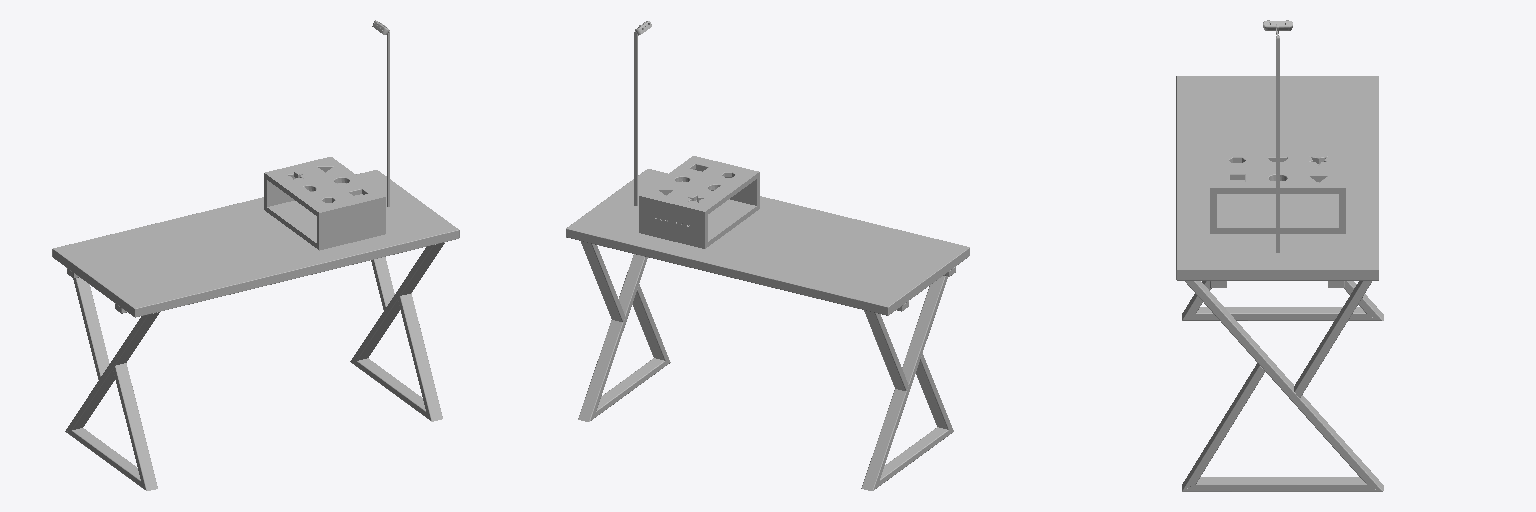
robot.urdf — vla_lab_description:
<?xml version="1.0" ?>
<robot name="vla_lab_description">
  <link name="vla_lab_base_link">
    <inertial>
      <origin xyz="0.044467 0.0014433 0.016429" rpy="0 0 0"/>
      <mass value="37.163"/>
      <inertia ixx="1.0649" ixy="-0.00018813" ixz="0.00023172" iyy="4.6485" iyz="0.012309" izz="5.6105"/>
    </inertial>
    <visual>
      <origin xyz="0 0 0" rpy="0 0 0"/>
      <geometry>
        <mesh filename="package://vla_lab_description/meshes/vla_lab_base_link.STL"/>
      </geometry>
      <material name="">
        <color rgba="0.75294 0.75294 0.75294 1"/>
      </material>
    </visual>
    <collision>
      <origin xyz="0 0 0" rpy="0 0 0"/>
      <geometry>
        <mesh filename="package://vla_lab_description/meshes/vla_lab_base_link.STL"/>
      </geometry>
    </collision>
  </link>
  <link name="d435i_link"/>
  <joint name="d435i_joint" type="fixed">
    <origin xyz="0.52326 0 0.75876" rpy="0 1.0143 -3.1416"/>
    <parent link="vla_lab_base_link"/>
    <child link="d435i_link"/>
  </joint>
  <link name="rgb_camera_optical_frame"/>
  <joint name="rgb_camera_optical_joint" type="fixed">
    <origin xyz="0.012 0.0325 0" rpy="-1.5707963267949 0 -1.5707963267949"/>
    <parent link="d435i_link"/>
    <child link="rgb_camera_optical_frame"/>
  </joint>
  <link name="left_ir_camera_optical_frame"/>
  <joint name="left_ir_camera_optical_joint" type="fixed">
    <origin xyz="0.012 0.0175 0" rpy="-1.5707963267949 0 -1.5707963267949"/>
    <parent link="d435i_link"/>
    <child link="left_ir_camera_optical_frame"/>
  </joint>
  <link name="right_ir_camera_optical_frame"/>
  <joint name="right_ir_camera_optical_joint" type="fixed">
    <origin xyz="0.012 -0.0325 0" rpy="-1.5707963267949 0 -1.5707963267949"/>
    <parent link="d435i_link"/>
    <child link="right_ir_camera_optical_frame"/>
  </joint>
  <link name="depth_camera_optical_frame"/>
  <joint name="depth_camera_optical_joint" type="fixed">
    <origin xyz="0.012 0.0175 0" rpy="-1.5707963267949 0 -1.5707963267949"/>
    <parent link="d435i_link"/>
    <child link="depth_camera_optical_frame"/>
  </joint>

  <!-- Gazebo RGB-D camera sensor.
       Attached to d435i_link because Gazebo camera forward is easier to align from the camera body frame.
       The ROS optical TF frames still exist separately for perception. -->
  <gazebo reference="d435i_link">
    <sensor name="vla_lab_d435i_rgbd_sensor" type="rgbd_camera">
      <pose>0.012 0.0175 0 0 0 0</pose>
      <always_on>true</always_on>
      <update_rate>30</update_rate>
      <topic>/vla_lab/d435i</topic>
      <camera>
        <horizontal_fov>1.211</horizontal_fov>
        <image>
          <width>640</width>
          <height>480</height>
          <format>R8G8B8</format>
        </image>
        <clip>
          <near>0.05</near>
          <far>5.0</far>
        </clip>
        <depth_camera>
          <clip>
            <near>0.05</near>
            <far>5.0</far>
          </clip>
        </depth_camera>
      </camera>
    </sensor>
  </gazebo>

</robot>

--- What the picture shows (computed from the rendered views, not written in the file) ---
The picture shows the robot from 3 angles, left to right: view 1: azimuth 30°, elevation 25°; view 2: azimuth 150°, elevation 25°; view 3: azimuth 270°, elevation 25°; orthographic projection.
Model vla_lab_description with 6 links and 5 joints (5 fixed), rooted at vla_lab_base_link, posed every joint at zero.
Visible links, largest first — view 1: vla_lab_base_link; view 2: vla_lab_base_link; view 3: vla_lab_base_link.
Link boxes in pixels (x1,y1,x2,y2): vla_lab_base_link: (52,20,459,490); vla_lab_base_link: (566,21,969,490); vla_lab_base_link: (1176,20,1383,491).
Bounding box of the posed robot: 1.36 × 0.6122 × 1.49 m (x, y, z).
1 mesh visuals loaded from 1 distinct referenced files (1 binary STL).
